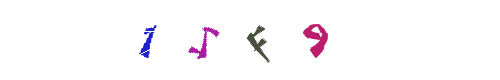1: (107, 0, 187, 80)
9: (234, 0, 314, 80)
F: (217, 0, 297, 80)
S: (210, 0, 290, 80)
